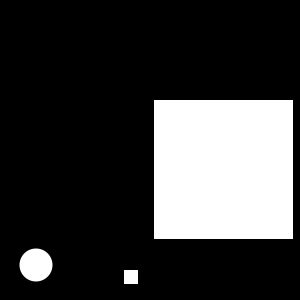circle: (154, 100, 293, 239), (233, 198, 264, 229), (124, 270, 138, 284)
rectangle: (20, 248, 52, 282)
triangle: (206, 213, 216, 223)
